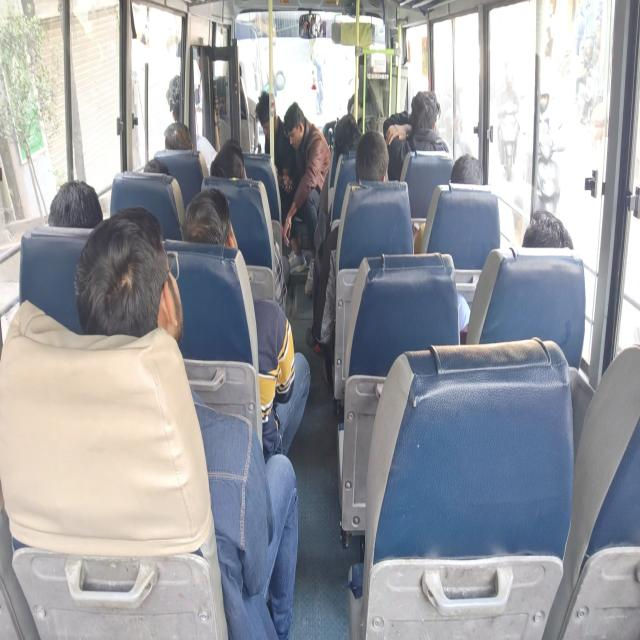person: (101, 233, 191, 345), (519, 206, 594, 259), (185, 190, 235, 251), (49, 177, 98, 227), (216, 148, 253, 188), (356, 139, 389, 183), (415, 83, 439, 141), (449, 156, 493, 186), (336, 114, 362, 154), (170, 77, 196, 117), (281, 112, 306, 149), (255, 99, 276, 136), (165, 124, 192, 152), (148, 153, 174, 176)
